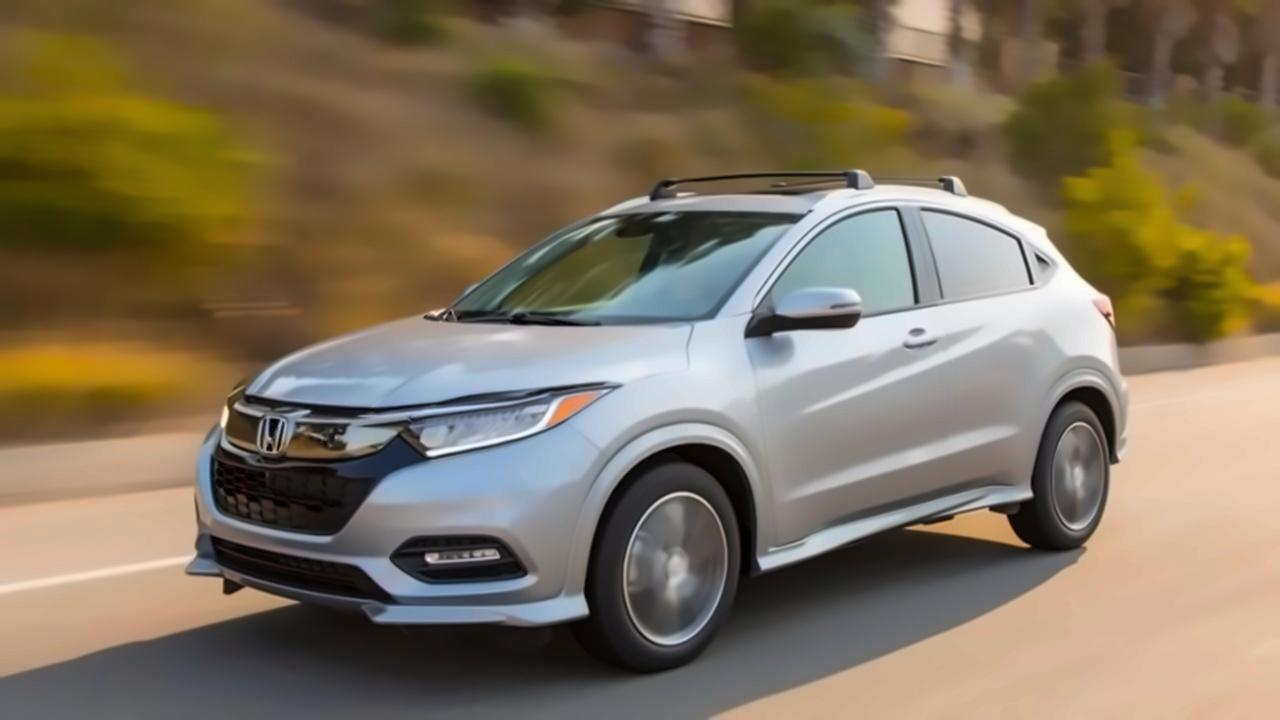Car hood: (238, 302, 697, 413)
Fender - -F-L-: (566, 304, 768, 590)
Fender - -R-L-: (1061, 291, 1123, 408)
Front bumper: (170, 448, 623, 638)
Headlight - -L-: (390, 372, 628, 466)
Passenger-s door - -F-L-: (768, 178, 937, 557)
Passenger-s door - -R-L-: (937, 190, 1060, 506)
Rear bumper: (1099, 368, 1161, 475)
Rear light - -L-: (1086, 278, 1126, 335)
Side bumper - -L-: (738, 470, 1059, 591)
Side mirror - -L-: (758, 280, 874, 348)
